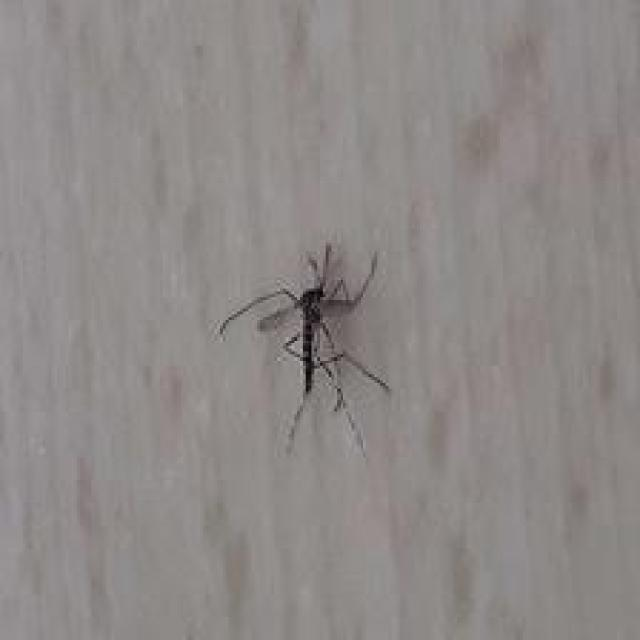Aedes albopictus: (216, 240, 393, 457)
